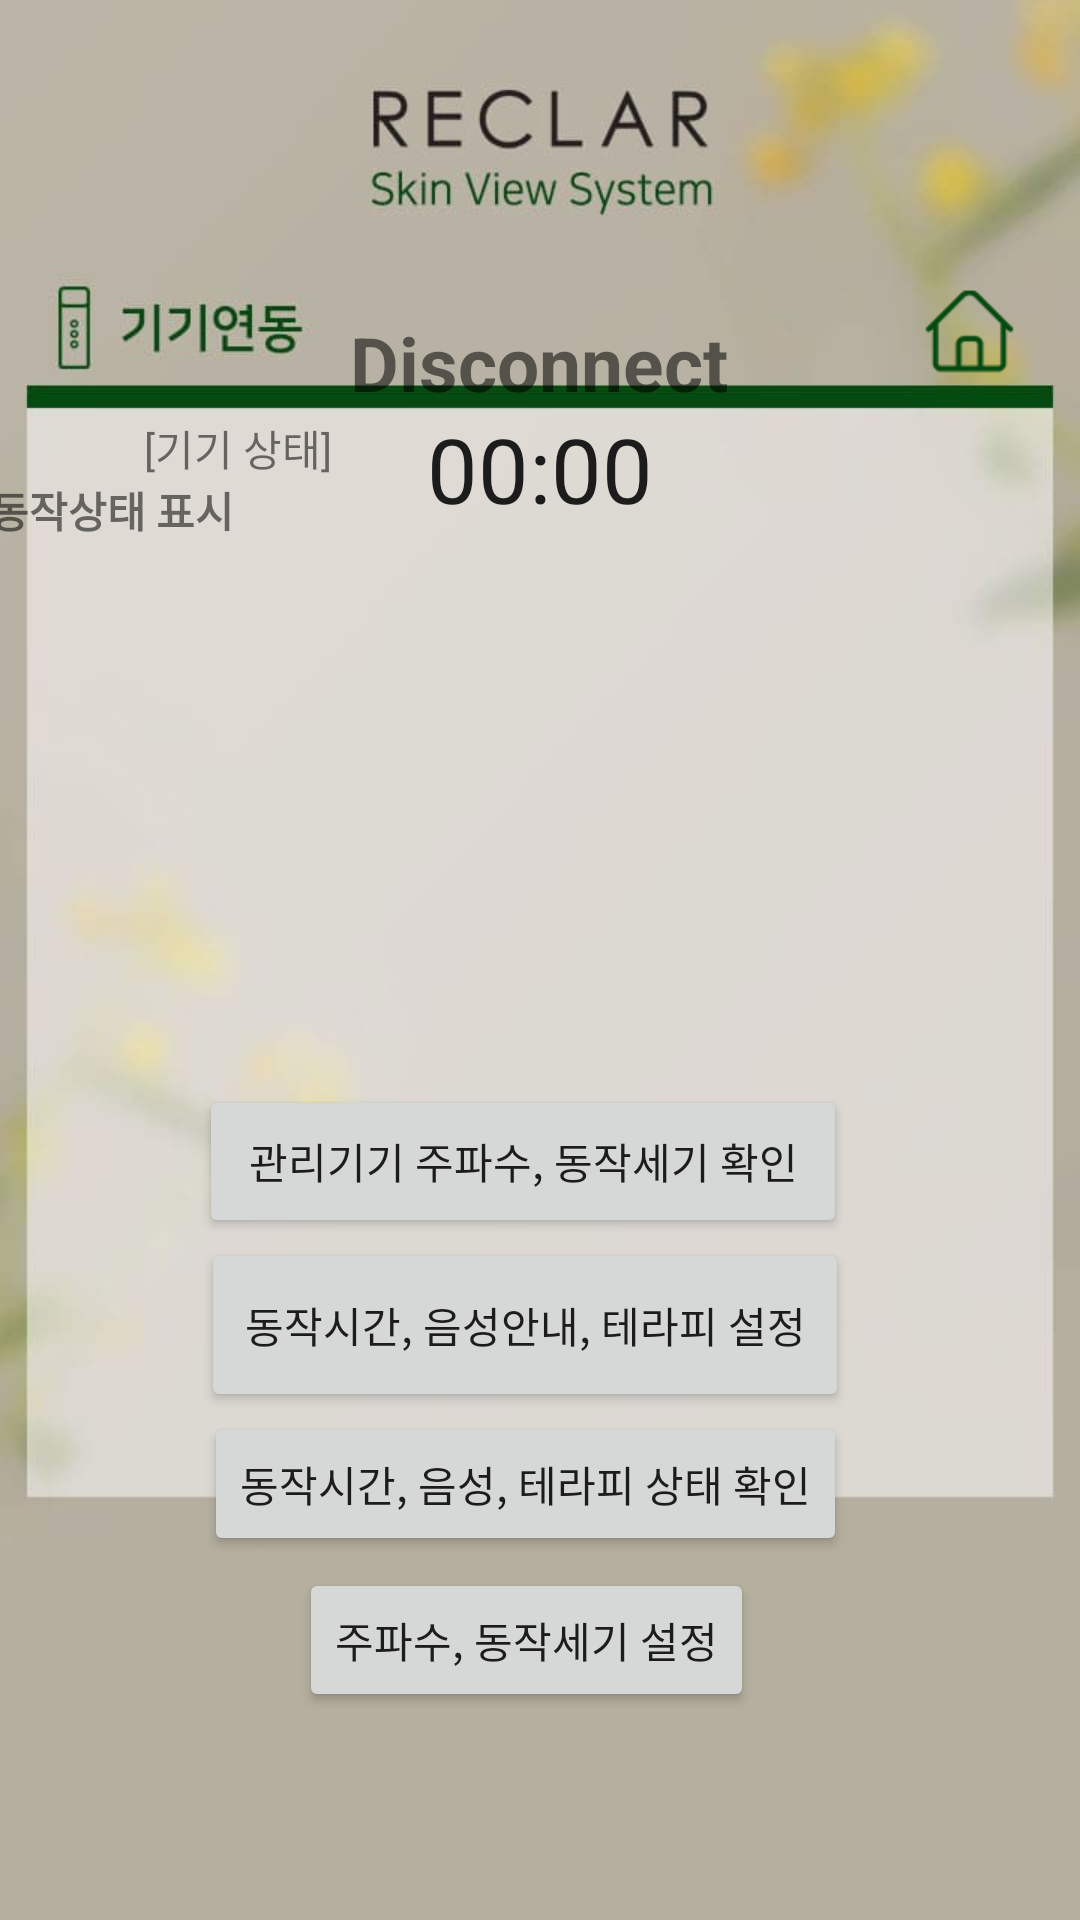

Named icons in this screenshot (1080 x 1920) and their bounding boxes, (x1,y1,x2,y2):
home: (920,278,1021,383)
